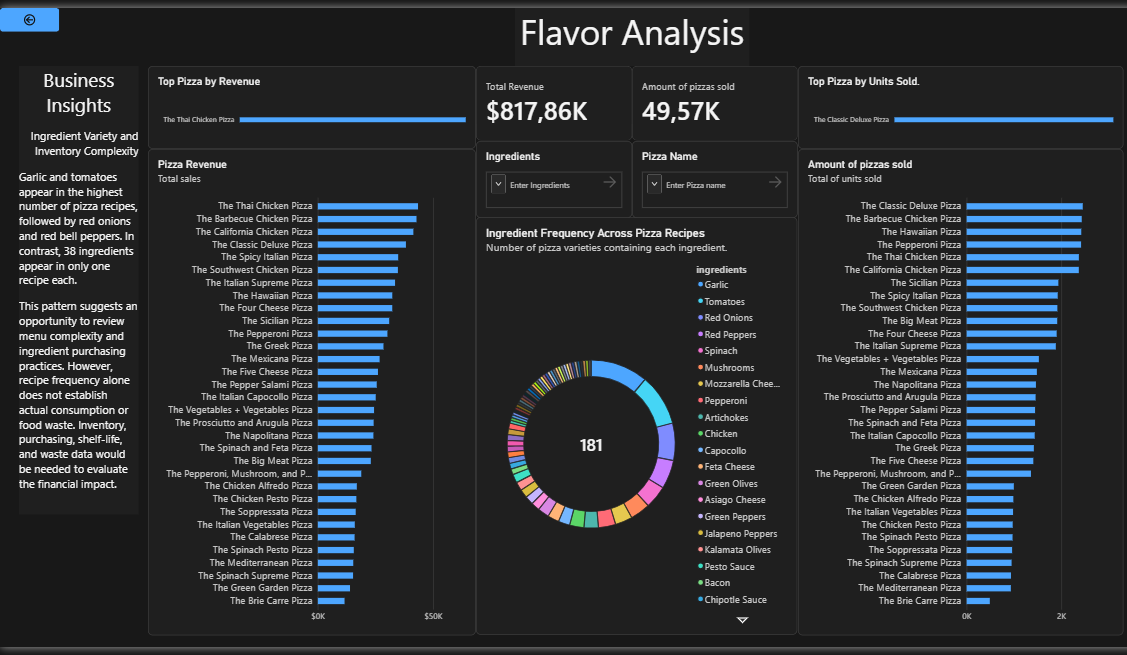

The dashboard page shown, as its layout file describes it:
{"tool":"powerbi","page":{"name":"Flavor_Analysis","canvas":[1920,1080],"ordinal":1},"visuals":[{"type":"clusteredBarChart","title":"Pizza Revenue","fields":{"Category":["Pizza_Revenue_By_Flavor.name"],"Y":["order_details.Total Sales"]},"box":[250,238,554,822],"z":0},{"type":"textbox","box":[870,0,396,98],"z":1000},{"type":"hundredPercentStackedBarChart","title":"Top Pizza by Revenue","fields":{"Category":["Pizza_Revenue_By_Flavor.name"],"Y":["order_details.Total Sales"]},"box":[250,98,554,140],"z":2000},{"type":"hundredPercentStackedBarChart","title":"Top Pizza by Units Sold.","fields":{"Category":["Pizza_Revenue_By_Flavor.name"],"Y":["Sum(Pizza_Revenue_By_Flavor.total_revenue)"]},"box":[1348,98,550,140],"z":3000},{"type":"donutChart","title":"Ingredient Frequency Across Pizza Recipes","fields":{"Category":["Pizza_Ingredients_Split.ingredients"],"Y":["CountNonNull(Pizza_Ingredients_Split.ingredients)"]},"box":[803.8,353.8,542.5,706.2],"z":4000},{"type":"clusteredBarChart","title":"Amount of pizzas sold","fields":{"Category":["Pizza_Revenue_By_Flavor.name"],"Y":["Sum(Pizza_Revenue_By_Flavor.total_quantity)"]},"box":[1348,238,550,822],"z":5000},{"type":"textSlicer","title":"Pizza Name","fields":{"Values":["Pizza_Revenue_By_Flavor.name"]},"box":[1068,224,280,130],"z":6000},{"type":"actionButton","box":[0,0,100,40],"z":7000},{"type":"cardVisual","fields":{"Data":["Sum(Pizza_Revenue_By_Flavor.total_revenue)"]},"box":[804,98,264,126],"z":8000},{"type":"cardVisual","fields":{"Data":["Sum(Pizza_Revenue_By_Flavor.total_quantity)"]},"box":[1068,98,280,126],"z":9000},{"type":"textbox","box":[32,98,202,758],"z":10000},{"type":"textSlicer","fields":{"Values":["Pizza_Ingredients_Split.ingredients"]},"box":[804,224,264,130],"z":10001}]}

Visuals, with their boxes on the page's 1920x1080 design canvas (x1, y1, x2, y2). These are canvas units, not pixel positions in the 1127x655 screenshot, which may show the page scaled, cropped or inside an application window:
"Pizza Revenue" clusteredBarChart: 250, 238, 804, 1060
textbox: 870, 0, 1266, 98
"Top Pizza by Revenue" hundredPercentStackedBarChart: 250, 98, 804, 238
"Top Pizza by Units Sold." hundredPercentStackedBarChart: 1348, 98, 1898, 238
"Ingredient Frequency Across Pizza Recipes" donutChart: 804, 354, 1346, 1060
"Amount of pizzas sold" clusteredBarChart: 1348, 238, 1898, 1060
"Pizza Name" textSlicer: 1068, 224, 1348, 354
actionButton: 0, 0, 100, 40
cardVisual - Sum(Pizza_Revenue_By_Flavor.total_revenue): 804, 98, 1068, 224
cardVisual - Sum(Pizza_Revenue_By_Flavor.total_quantity): 1068, 98, 1348, 224
textbox: 32, 98, 234, 856
textSlicer - Pizza_Ingredients_Split.ingredients: 804, 224, 1068, 354
